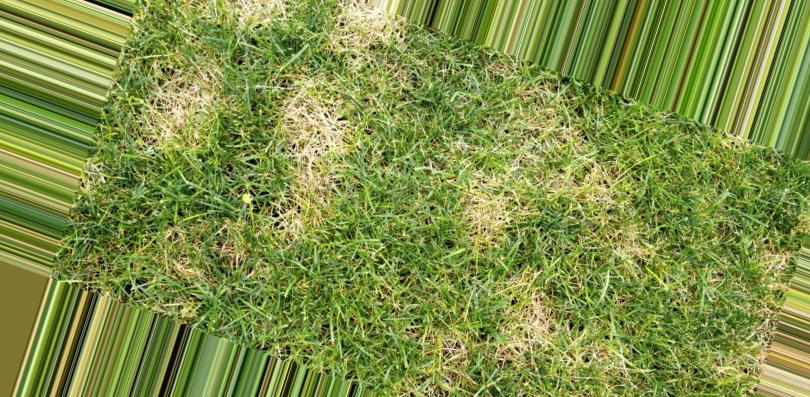patch: (465, 170, 511, 227), (317, 86, 346, 149), (166, 89, 194, 127), (309, 161, 329, 204)
